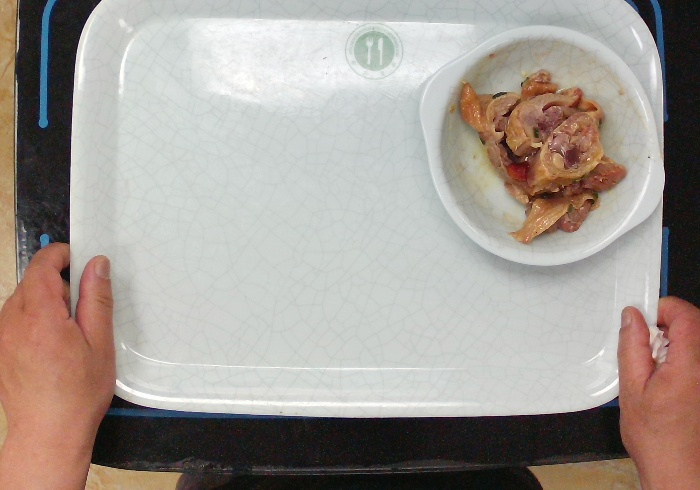JYsf-Shuang_Er_Wan: (415, 22, 664, 268)
